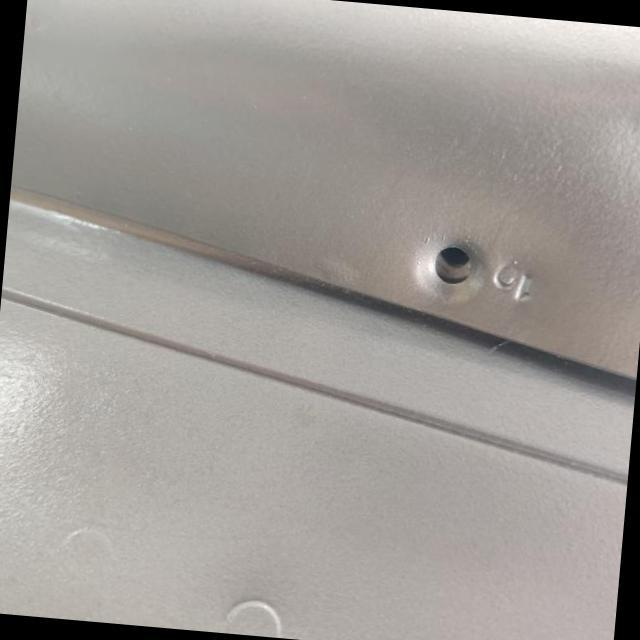Fastener Damage: (376, 191, 530, 346)
